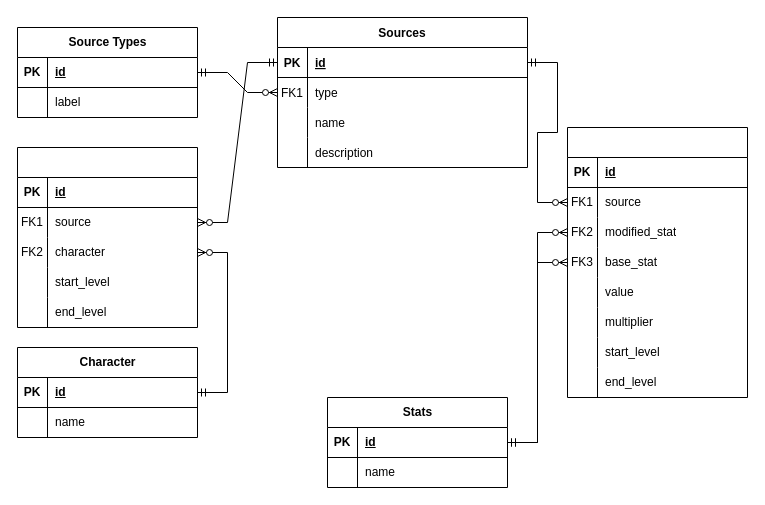
Some shapes in this 765 by 505 pixel diagram are drawn without their labels. The shapes that lost their labels are listed below. From the top down, each one's box as (x1, y1, x2, y2) in pixels, then its label:
(16, 146, 198, 328): Character-Source
(566, 126, 748, 398): Modifier
